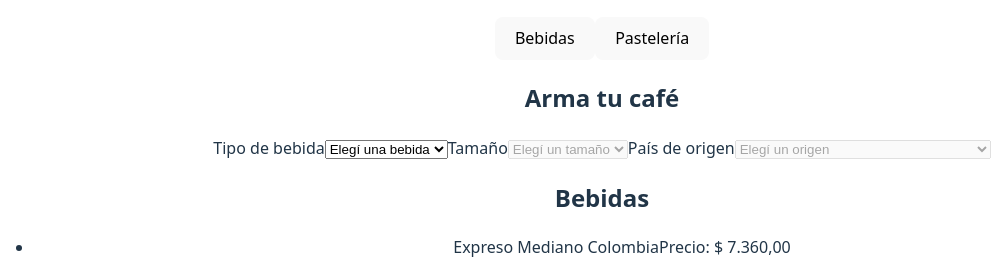
Test case: Menu con API › muestra los productos de una respuesta 200 valida
Expected: the text "Expreso Mediano Colombia" is shown, [453,236,659,258]
Expected: the text "Muffin de chocolate" is not shown
Click the button "Pastelería" at (652, 38), box [595,17,709,60]
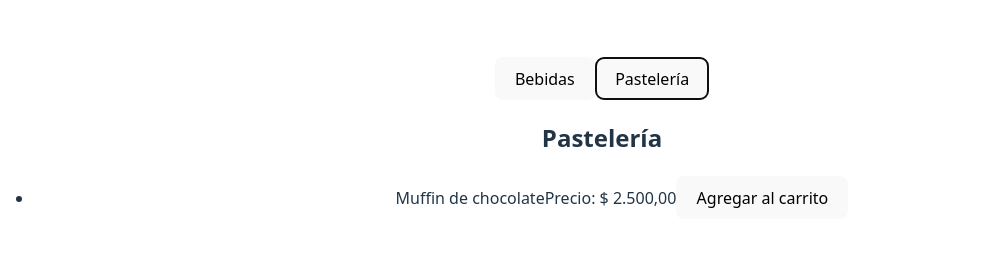
Expected: the text "Muffin de chocolate" is shown, [396,186,545,208]
